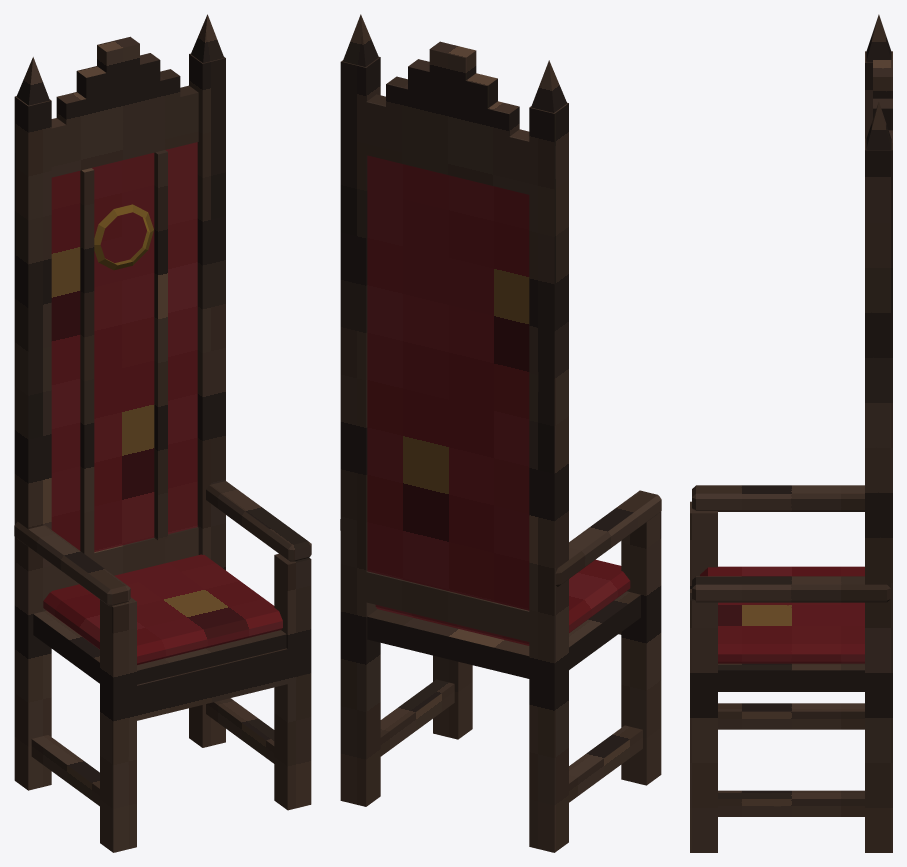
The model's file is high_chair.glb.
3 views of the same model, side by side, from view 1: azimuth 30°, elevation 25°; view 2: azimuth 150°, elevation 25°; view 3: azimuth 270°, elevation 25° (orthographic). The views are drawn at different scales.
Parts seen in each view (by area): view 1: body; view 2: body; view 3: body.
Part boxes in pixels (left/top/right/bottom): body: left=14, top=14, right=311, bottom=852; body: left=340, top=14, right=661, bottom=852; body: left=690, top=14, right=892, bottom=852.
Size of the model in its own units: 0.61 by 2.07 by 0.51.
3 materials, 3 textured.
